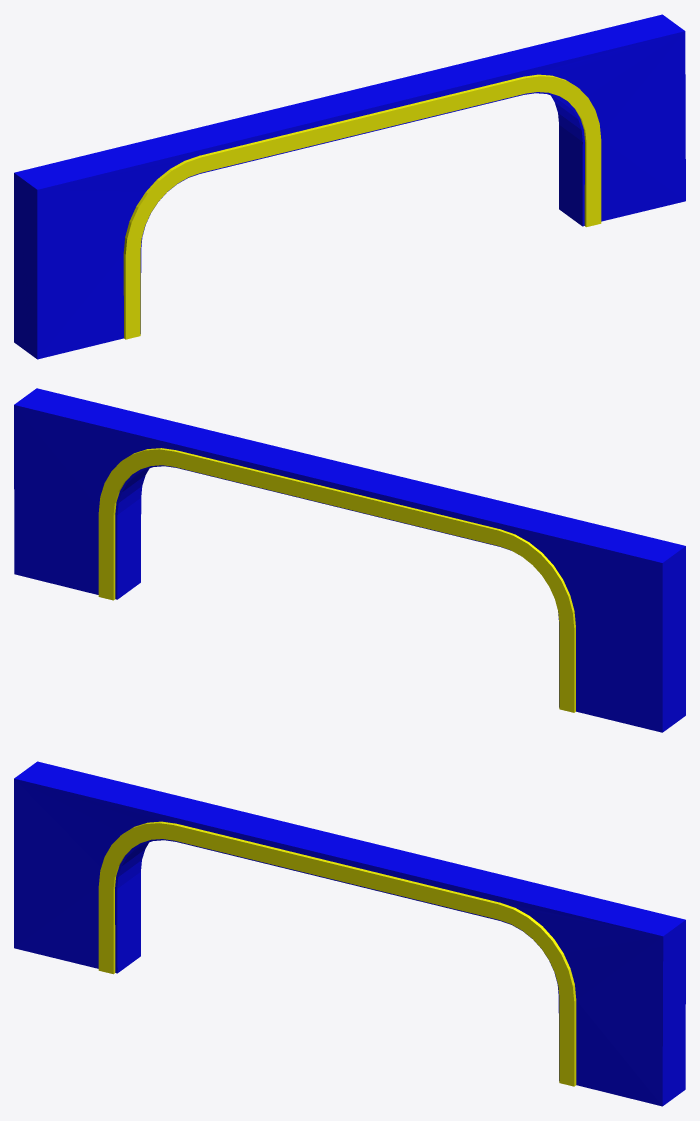
The model's file is ARCH_TOP_HUGE16.fbx.
The picture shows the model from 3 angles, top to bottom: view 1: azimuth 30°, elevation 25°; view 2: azimuth 150°, elevation 25°; view 3: azimuth 330°, elevation 25°; orthographic projection.
Visible parts, largest first — view 1: ARCH_TOP_16x4; view 2: ARCH_TOP_16x4; view 3: ARCH_TOP_16x4.
Boxes of the visible parts, bbox=[...] form: ARCH_TOP_16x4: bbox=[14, 14, 685, 359]; ARCH_TOP_16x4: bbox=[14, 388, 685, 732]; ARCH_TOP_16x4: bbox=[14, 761, 685, 1106].
Size of the model in its own units: 1600 by 400 by 115.
